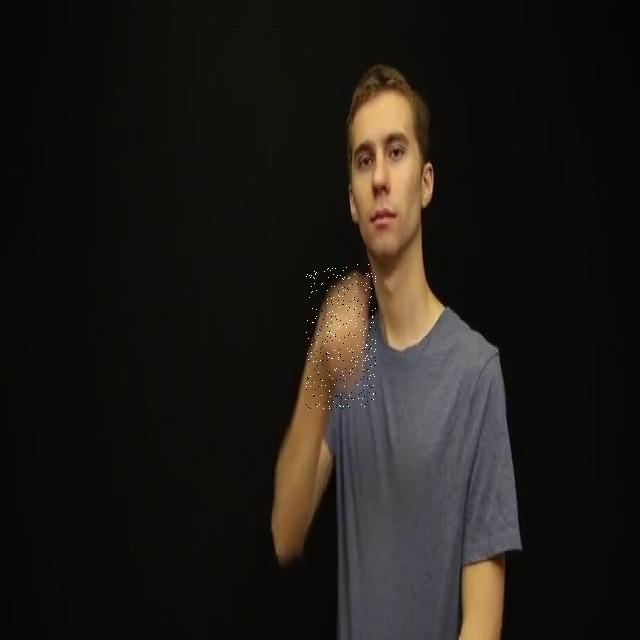icecream: (306, 264, 376, 409)
